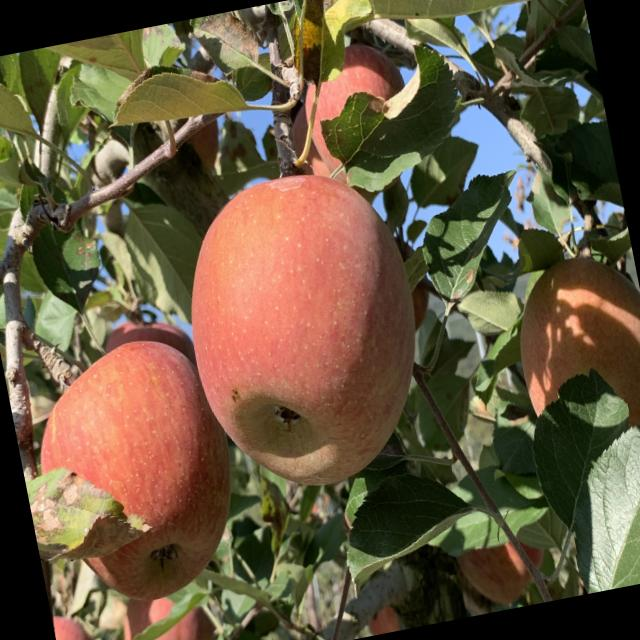fresh: (156, 147, 454, 511), (15, 319, 264, 626)
